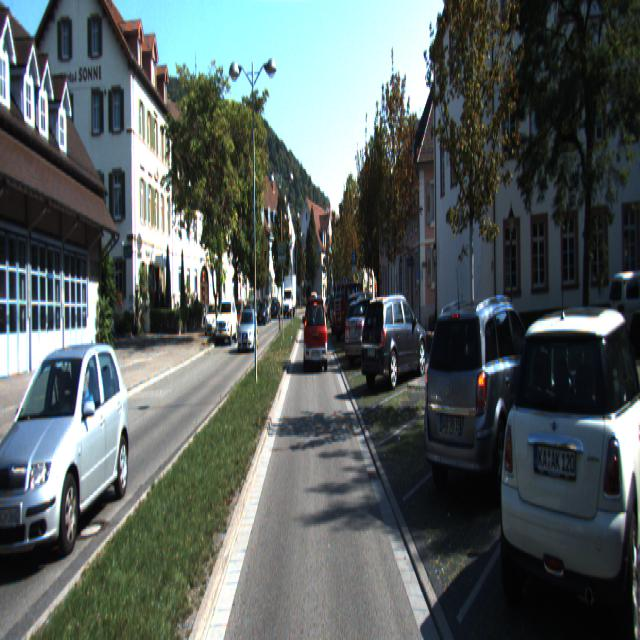Car: (496, 294, 640, 638), (0, 338, 134, 567), (420, 303, 551, 523), (360, 292, 428, 389), (343, 296, 394, 364), (332, 284, 369, 342), (305, 298, 328, 373), (216, 298, 238, 344), (237, 308, 258, 352), (229, 298, 246, 337), (205, 303, 219, 337), (256, 301, 268, 325)
